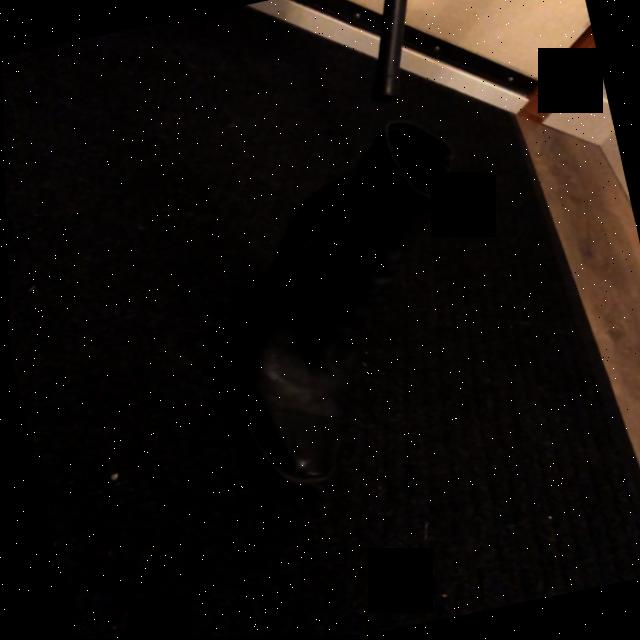shoe: (216, 123, 463, 493)
